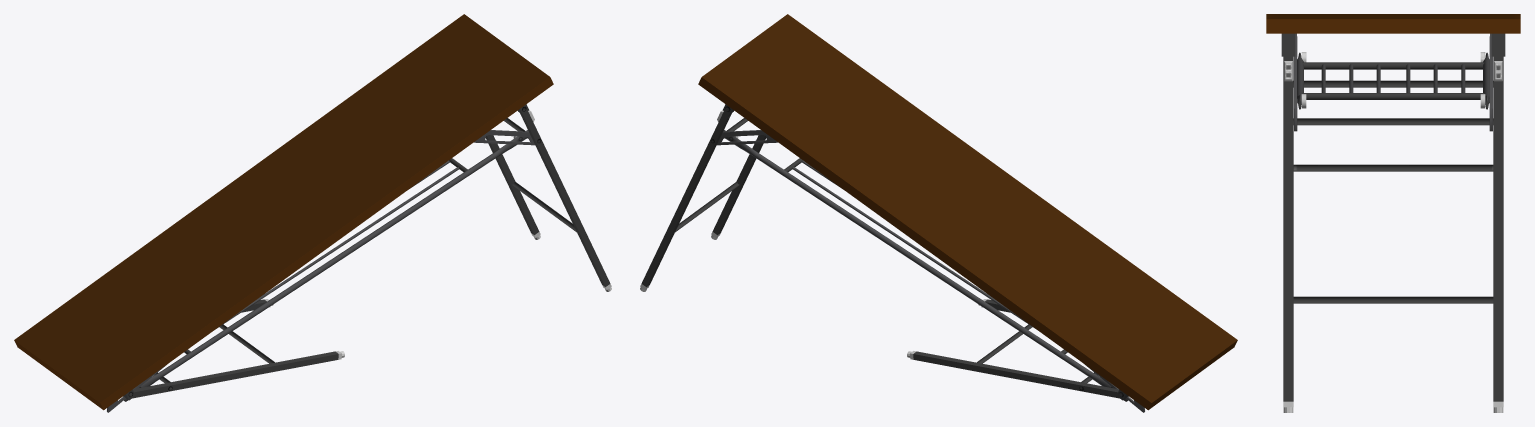
Rendered from FoldingTable_SideFold-M.fbx.
The picture shows the model from 3 angles, left to right: view 1: azimuth 30°, elevation 25°; view 2: azimuth 150°, elevation 25°; view 3: azimuth 270°, elevation 25°; orthographic projection. The views are drawn at different scales.
Visible parts, largest first — view 1: FoldingTable_SideFold-M; view 2: FoldingTable_SideFold-M; view 3: FoldingTable_SideFold-M.
Part boxes in pixels (box(x1,y1,x2,y2)): FoldingTable_SideFold-M: box(14, 14, 611, 412); FoldingTable_SideFold-M: box(640, 14, 1237, 412); FoldingTable_SideFold-M: box(1266, 14, 1520, 412).
Size of the model in its own units: 157 by 68.53 by 45.1.
